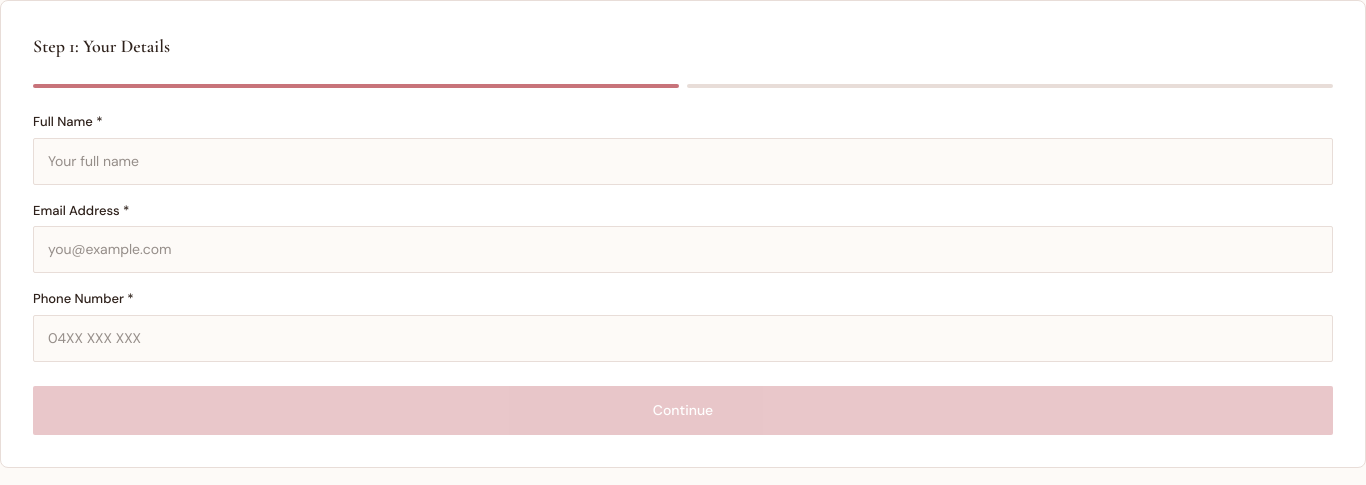
Test: ClaimForm component › submits claim successfully
In the field with placeholder "Your full name": [683, 161] box [33,138,1333,184], type "Jane Owner"
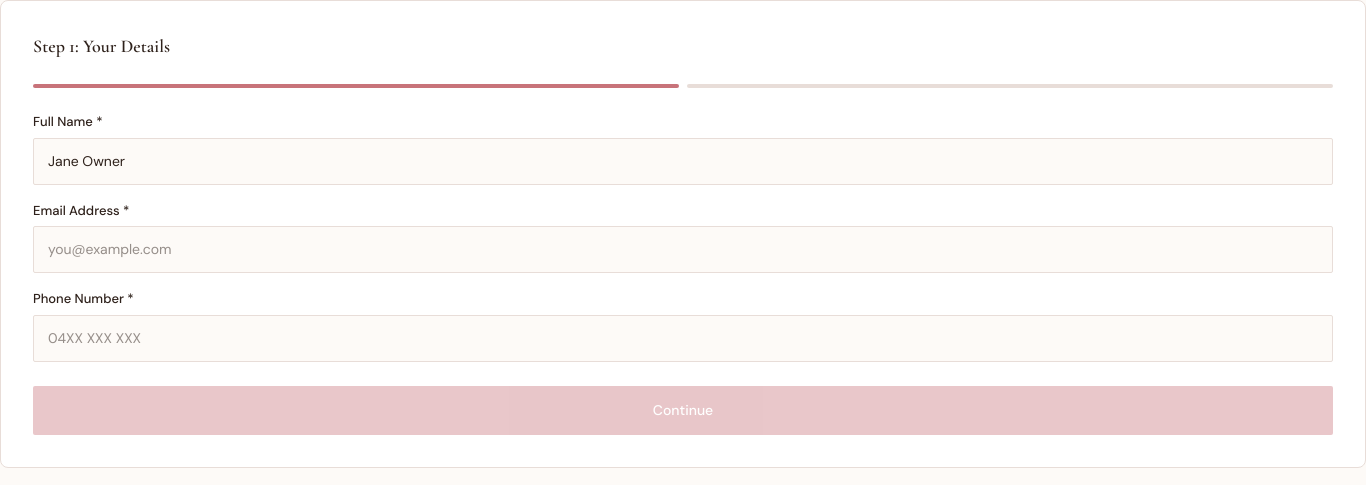
In the field with placeholder "you@example.com": [683, 250] box [33,226,1333,273], type "jane@biz.com"
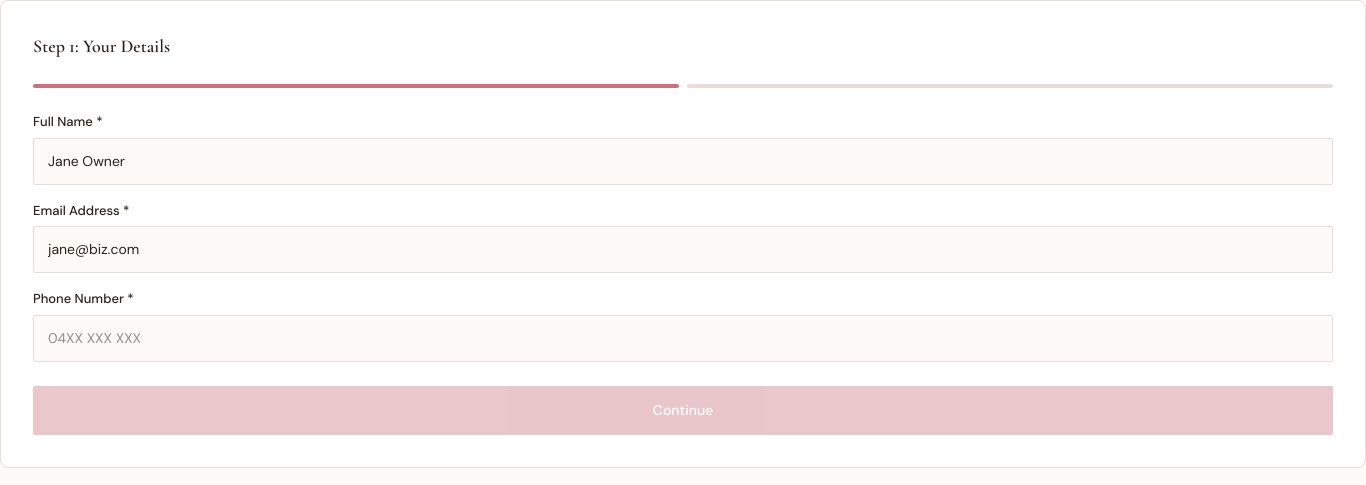
In the field with placeholder "04XX XXX XXX": [683, 338] box [33,314,1333,362], type "0412 000 111"
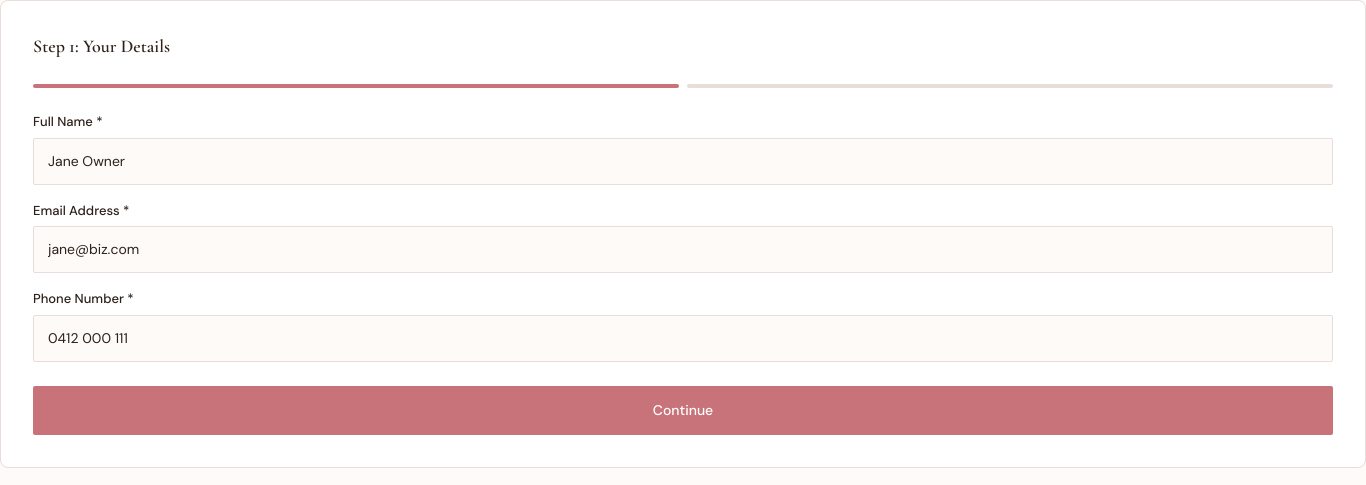
Click the button "Continue": [683, 410] box [33,386,1333,434]
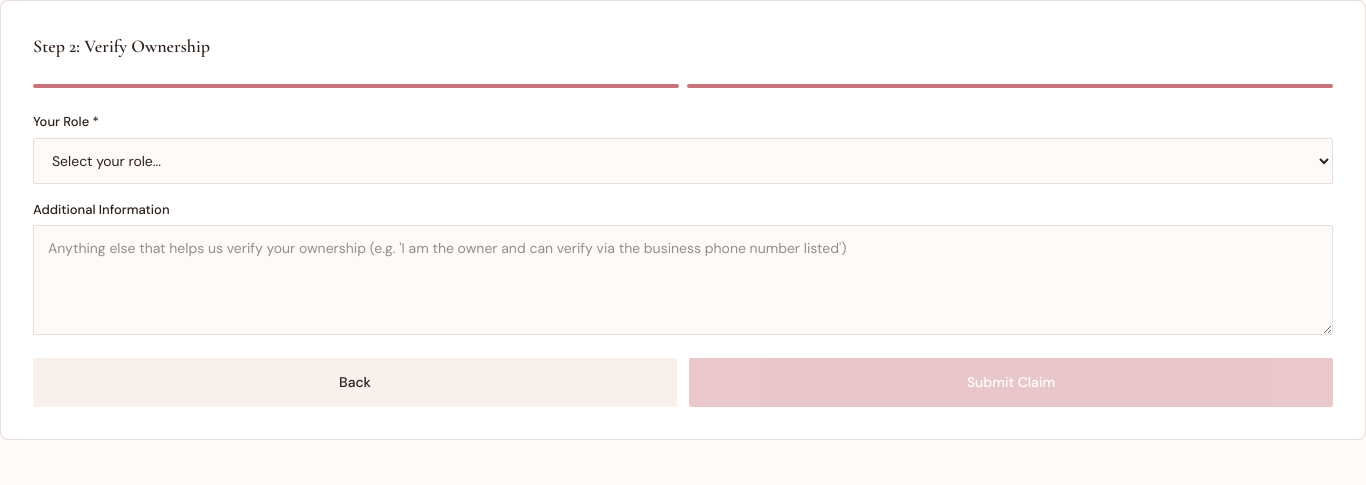
Select "Business Owner" in the dropdown: [683, 160] box [33,138,1333,184]
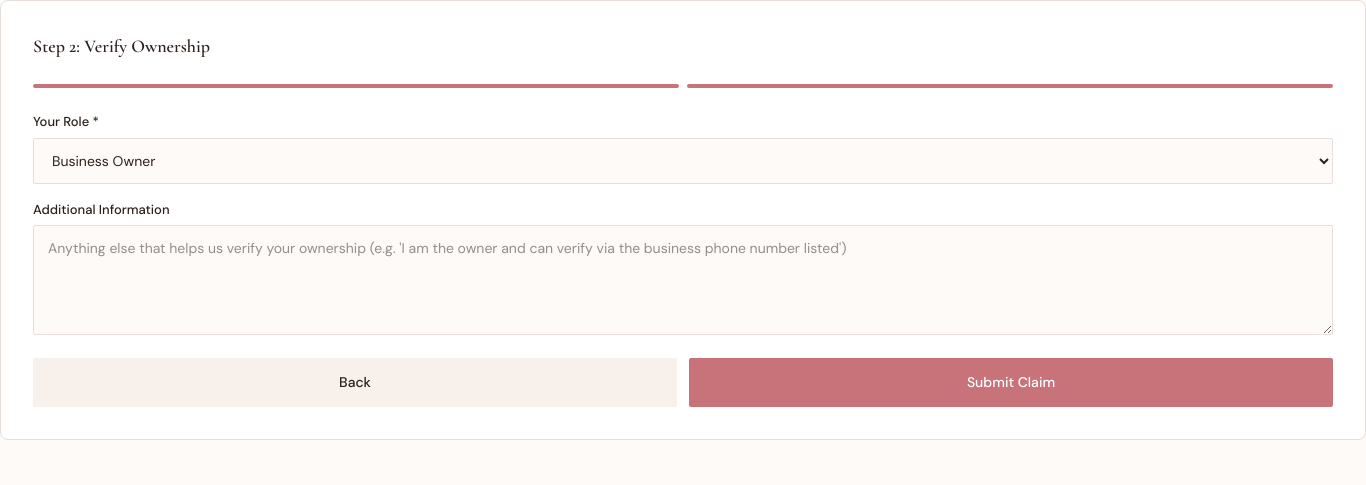
Click the button "Submit Claim": [1011, 382] box [689,358,1333,407]
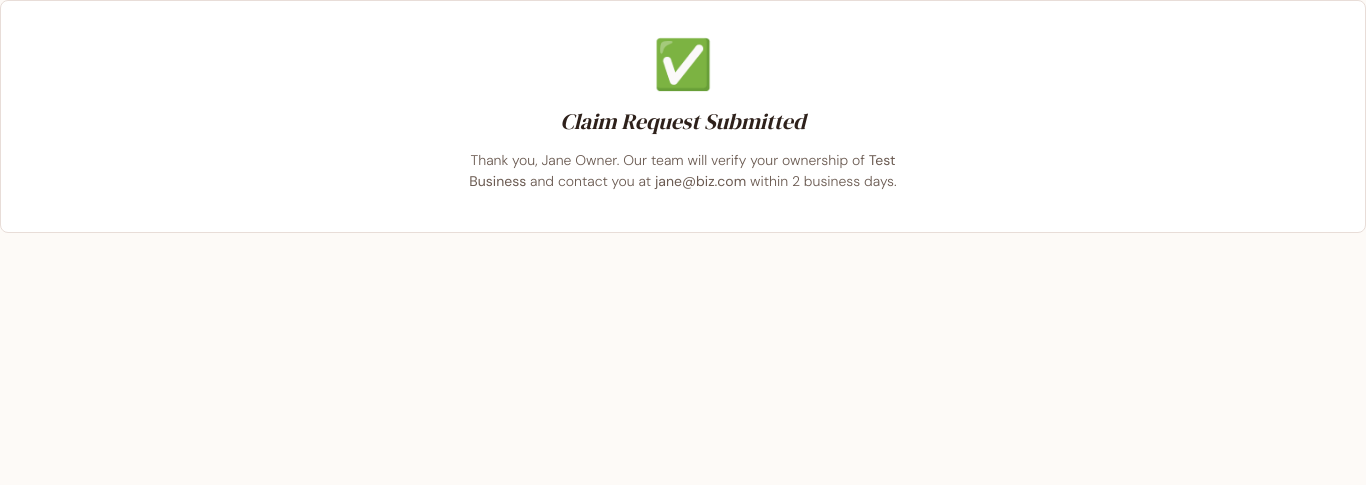
Result: the heading "Claim Request Submitted" is shown at [560,106,806,136]
